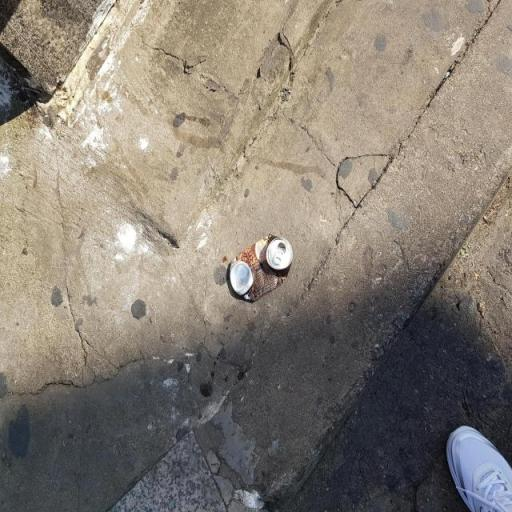metal: (214, 216, 304, 322)
